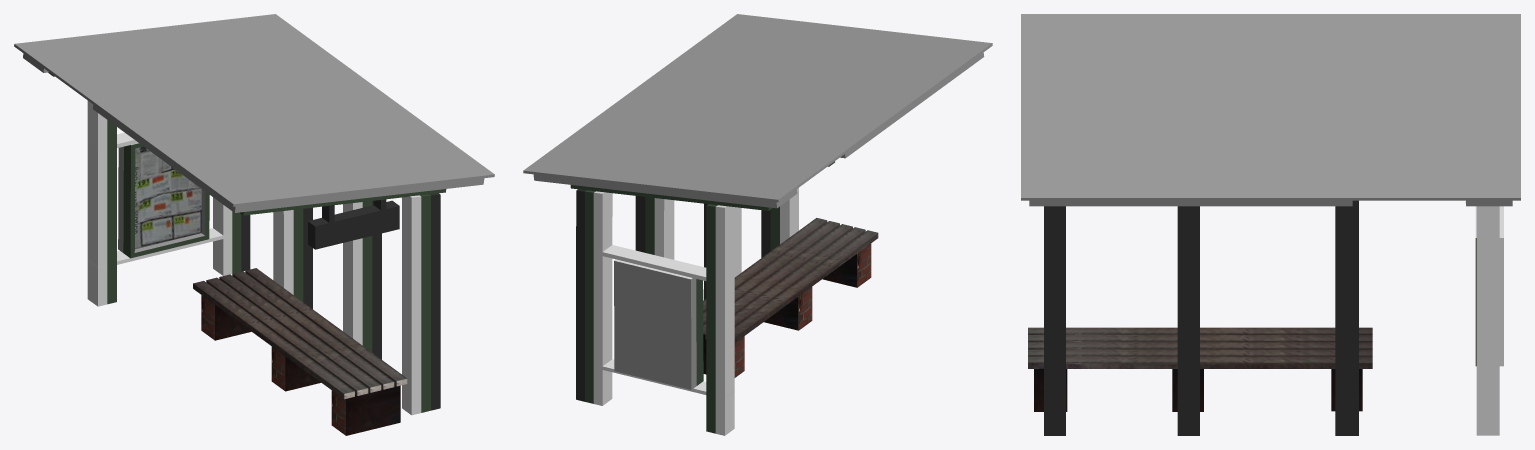
File: 公車站.fbx
3 views of the same model, side by side, from view 1: azimuth 30°, elevation 25°; view 2: azimuth 150°, elevation 25°; view 3: azimuth 270°, elevation 25° (orthographic). The views are drawn at different scales.
Visible parts, largest first — view 1: 公車站; view 2: 公車站; view 3: 公車站.
Boxes of the visible parts, left/top/right/bottom form: 公車站: left=14, top=14, right=494, bottom=435; 公車站: left=523, top=14, right=992, bottom=435; 公車站: left=1021, top=14, right=1520, bottom=435.
Size of the model in its own units: 136 by 132 by 198.
8 materials, 4 textured.
